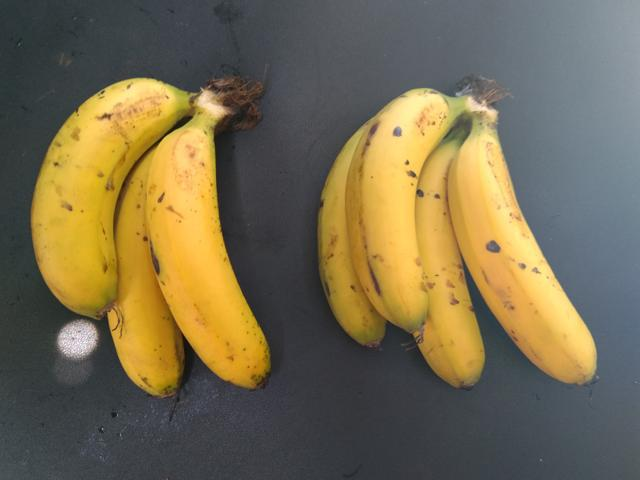ripe: (142, 114, 284, 390), (24, 70, 177, 326), (455, 107, 594, 380), (351, 69, 455, 331)
